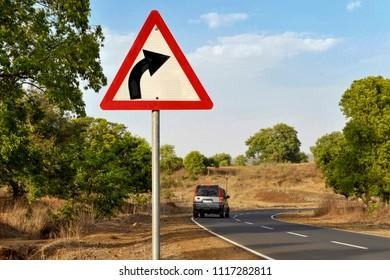Right Hand Curve: (93, 11, 216, 115)
